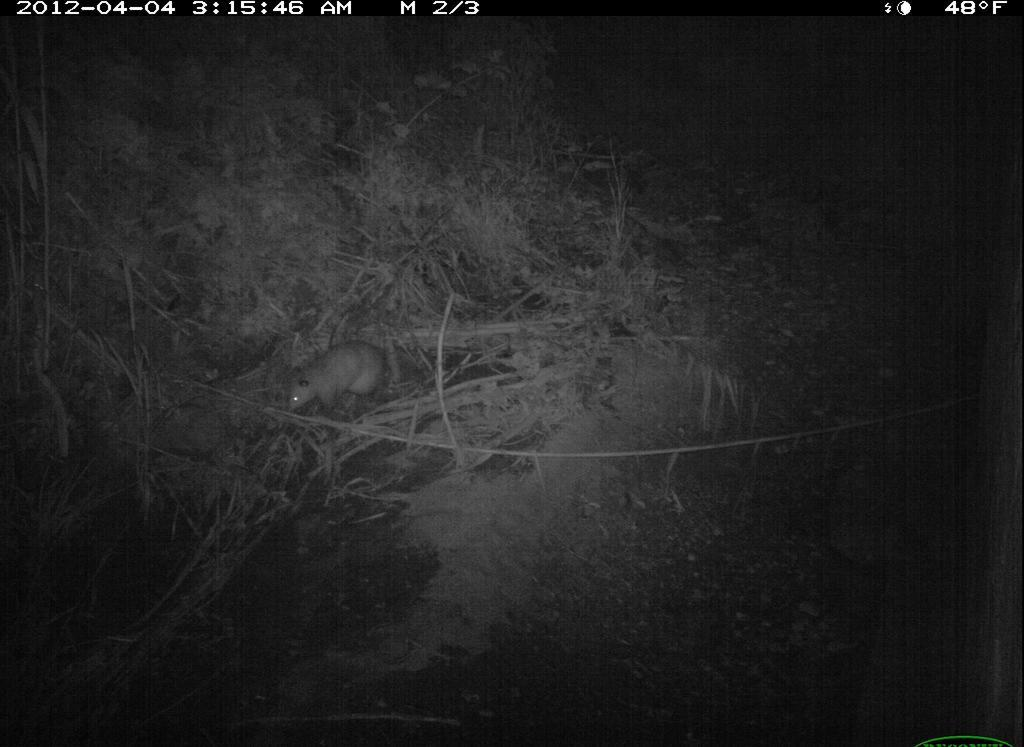opossum: (271, 337, 438, 415)
